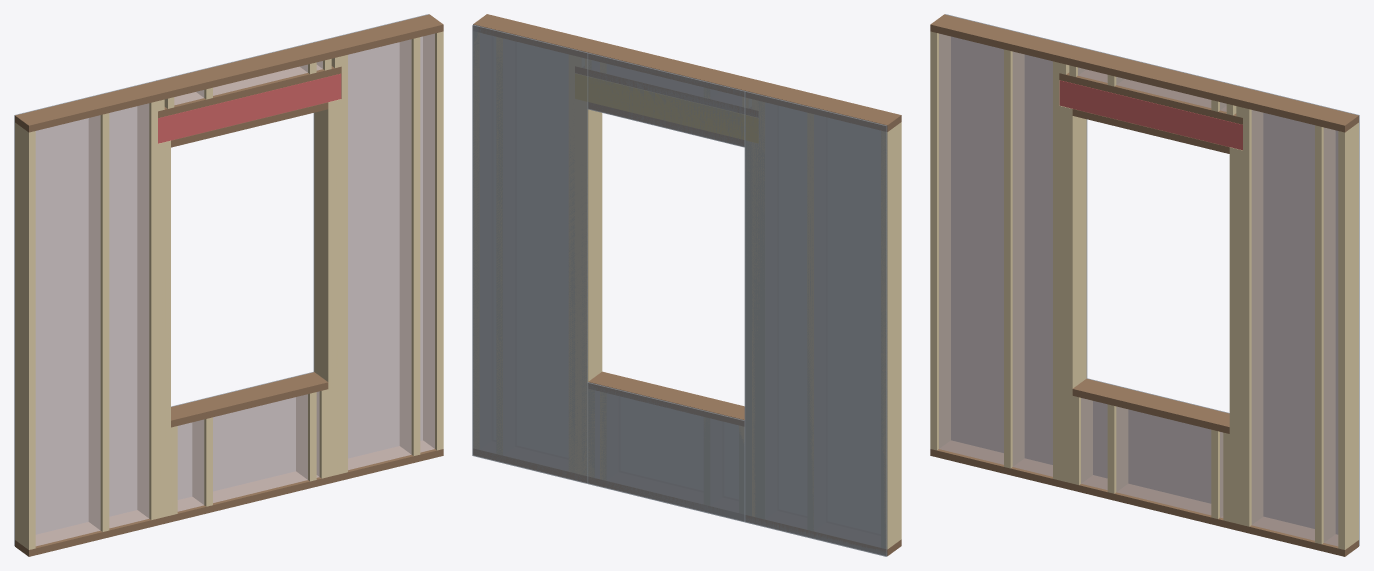
3 renders of one model, left to right at view 1: azimuth 30°, elevation 25°; view 2: azimuth 150°, elevation 25°; view 3: azimuth 330°, elevation 25°, orthographic.
Parts seen in each view (by area): view 1: EX9 GF; view 2: EX9 GF; view 3: EX9 GF.
Boxes of the visible parts, left/top/right/bottom form: EX9 GF: left=14, top=14, right=443, bottom=556; EX9 GF: left=472, top=14, right=901, bottom=556; EX9 GF: left=930, top=14, right=1359, bottom=556.
Bounding box in the file's own units: 2.4 × 2.39 × 0.149.
